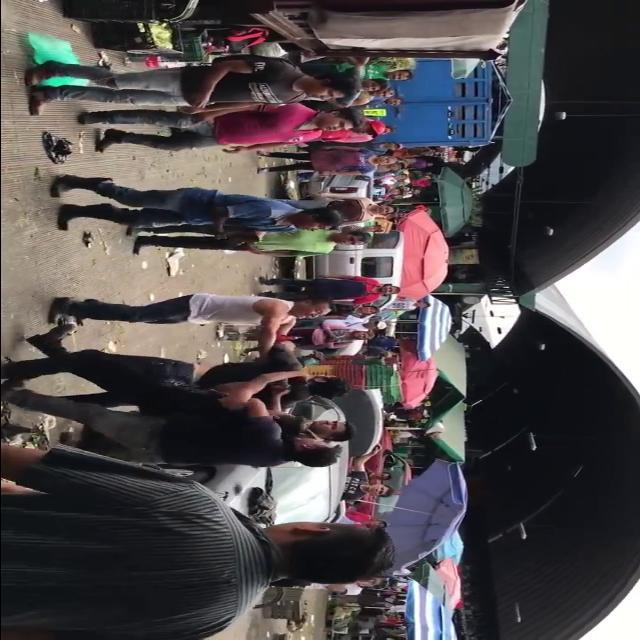violence: (47, 295, 353, 404)
